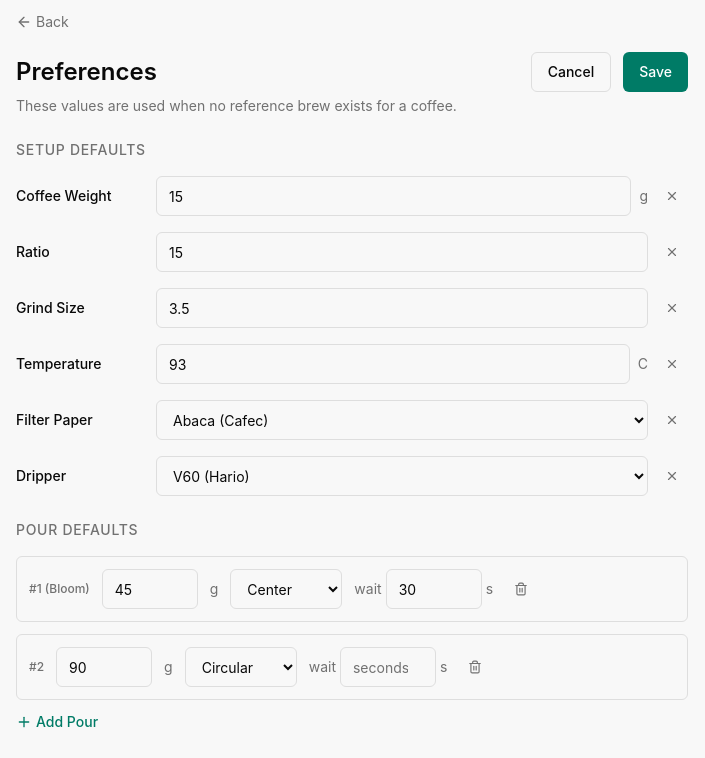
it: PreferencesPage › removes a pour default
Expected: the text "#1 (Bloom)" is shown, [29, 581, 90, 597]
Expected: the text "#2" is shown, [29, 659, 44, 675]
// Remove the second pour
Click the button named "Remove pour 2": coordinates (475, 667) [459, 651, 491, 683]
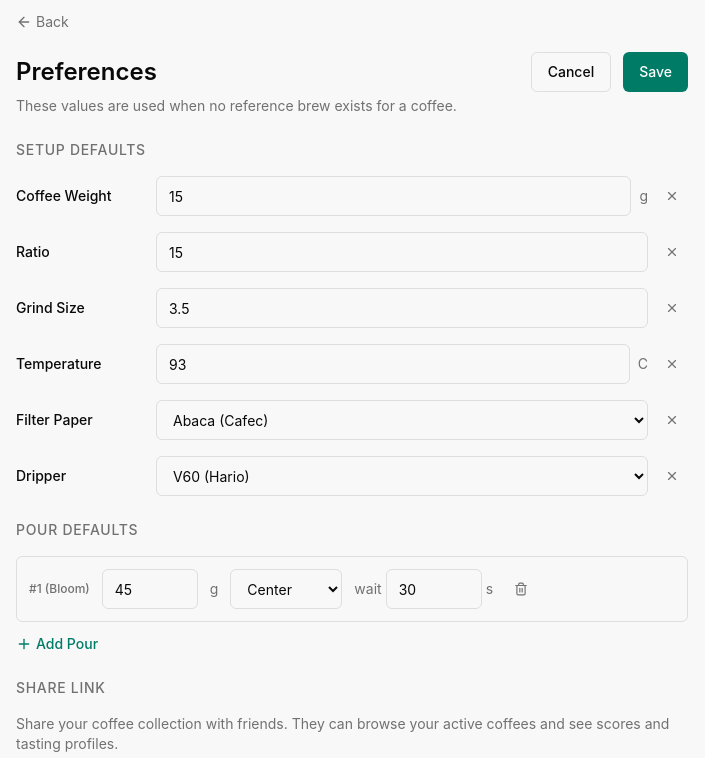
Expected: the text "#1 (Bloom)" is shown, [29, 581, 90, 597]
Result: the text "#2" is gone
